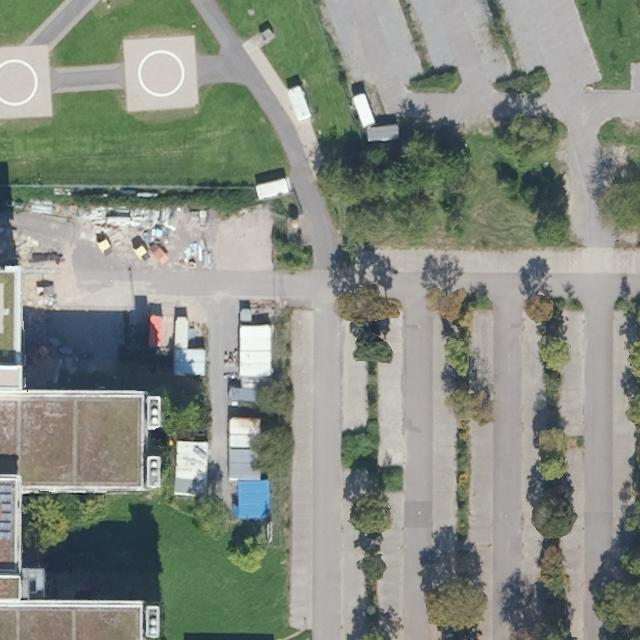PV: (0, 479, 14, 541)
